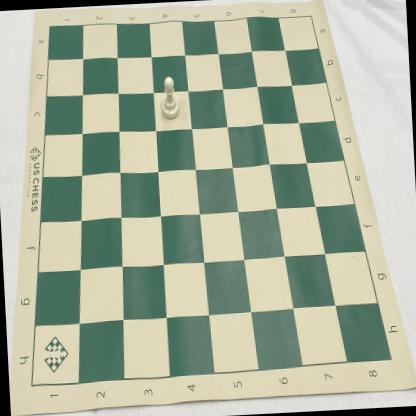pawn: (158, 75, 180, 120)
